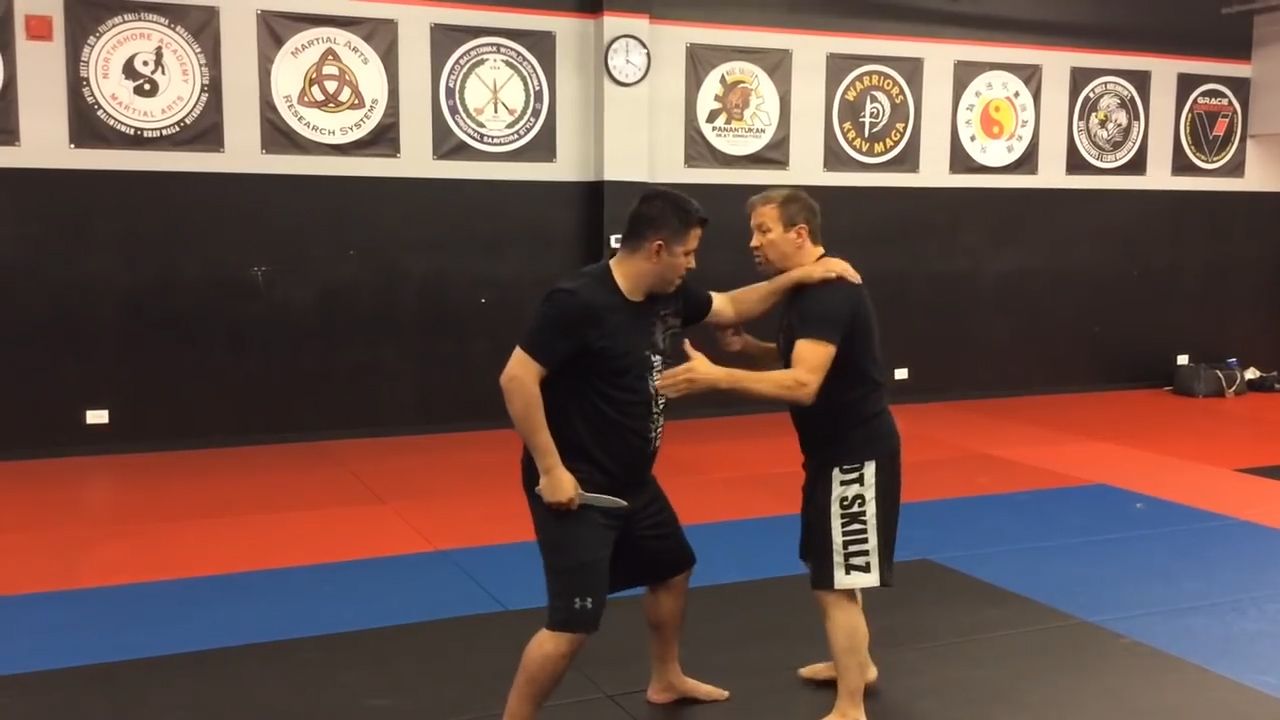knife: (530, 477, 633, 512)
